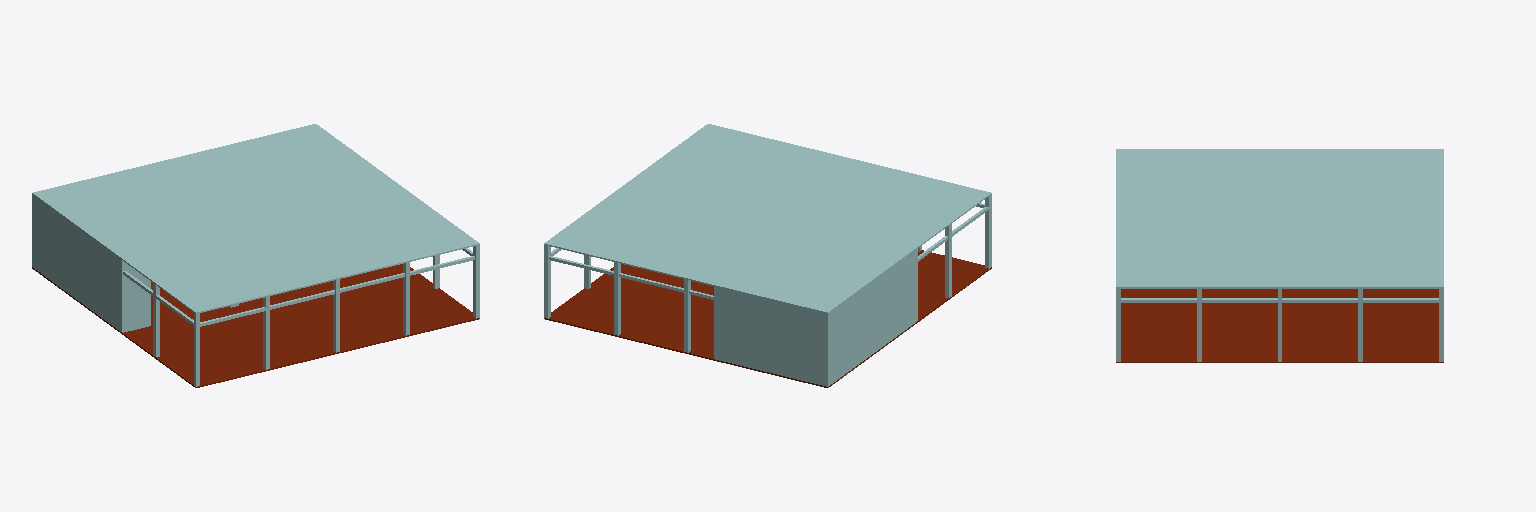
Rendered from Showroom.obj.
3 views of the same model, side by side, from view 1: azimuth 30°, elevation 25°; view 2: azimuth 150°, elevation 25°; view 3: azimuth 270°, elevation 25° (orthographic).
Visible parts, largest first — view 1: Cube, Cube.005, Cube.022_Cube.023; view 2: Cube, Cube.022_Cube.023, Cube.005; view 3: Cube, Cube.005, Cube.022_Cube.023.
Boxes of the visible parts, <box> form: Cube: <box>32,124,479,313</box>; Cube.005: <box>32,264,479,387</box>; Cube.022_Cube.023: <box>32,195,479,386</box>; Cube: <box>544,124,991,313</box>; Cube.022_Cube.023: <box>544,195,991,386</box>; Cube.005: <box>544,250,991,387</box>; Cube: <box>1116,149,1443,288</box>; Cube.005: <box>1116,289,1443,362</box>; Cube.022_Cube.023: <box>1116,289,1443,361</box>.
Size of the model in its own units: 20 by 5.1 by 20.